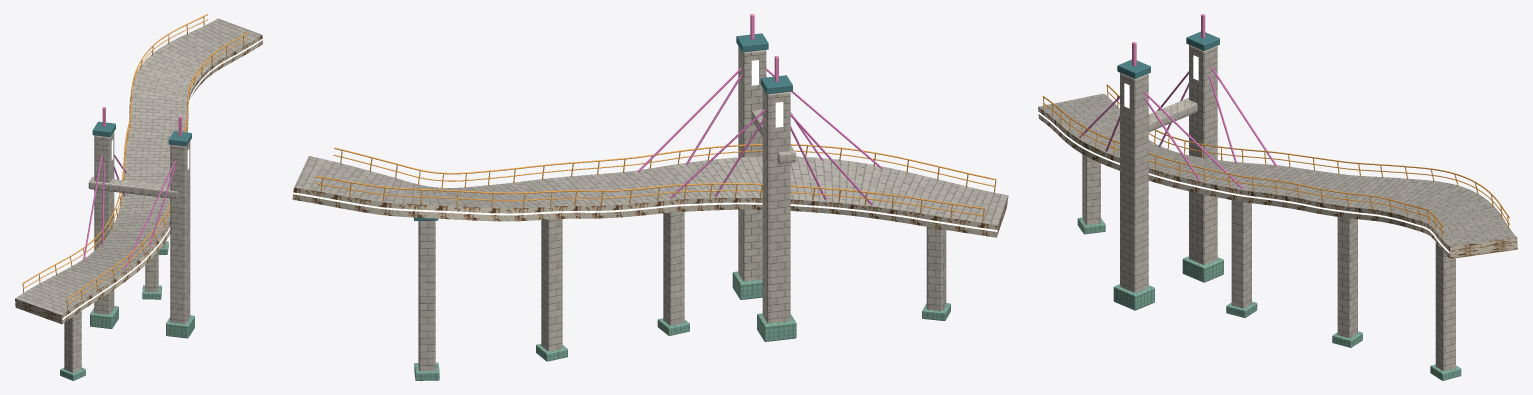
Rendered from Mock_A_to_B.glb.
The picture shows the model from 3 angles, left to right: view 1: azimuth 30°, elevation 25°; view 2: azimuth 150°, elevation 25°; view 3: azimuth 270°, elevation 25°; orthographic projection. The views are drawn at different scales.
Parts seen in each view (by area): view 1: Mock_A_to_B_Deck, Mock_A_to_B_T0_Foot-1, Mock_A_to_B_Neon-1; view 2: Mock_A_to_B_Deck, Mock_A_to_B_T0_Foot-1, Mock_A_to_B_Neon-1; view 3: Mock_A_to_B_Deck, Mock_A_to_B_T0_Foot-1, Mock_A_to_B_Neon-1.
Boxes of the visible parts, x1,y1,x2,y2 form: Mock_A_to_B_Deck: (15,14,263,372); Mock_A_to_B_T0_Foot-1: (60,241,194,380); Mock_A_to_B_Neon-1: (14,38,263,319); Mock_A_to_B_Deck: (292,33,1008,371); Mock_A_to_B_T0_Foot-1: (414,271,950,380); Mock_A_to_B_Neon-1: (293,60,997,231); Mock_A_to_B_Deck: (1038,31,1517,371); Mock_A_to_B_T0_Foot-1: (1077,217,1461,380); Mock_A_to_B_Neon-1: (1037,55,1518,253).
Bounding box in the file's own units: 38.34 × 20.14 × 33.85.
7 materials, 3 textured.
